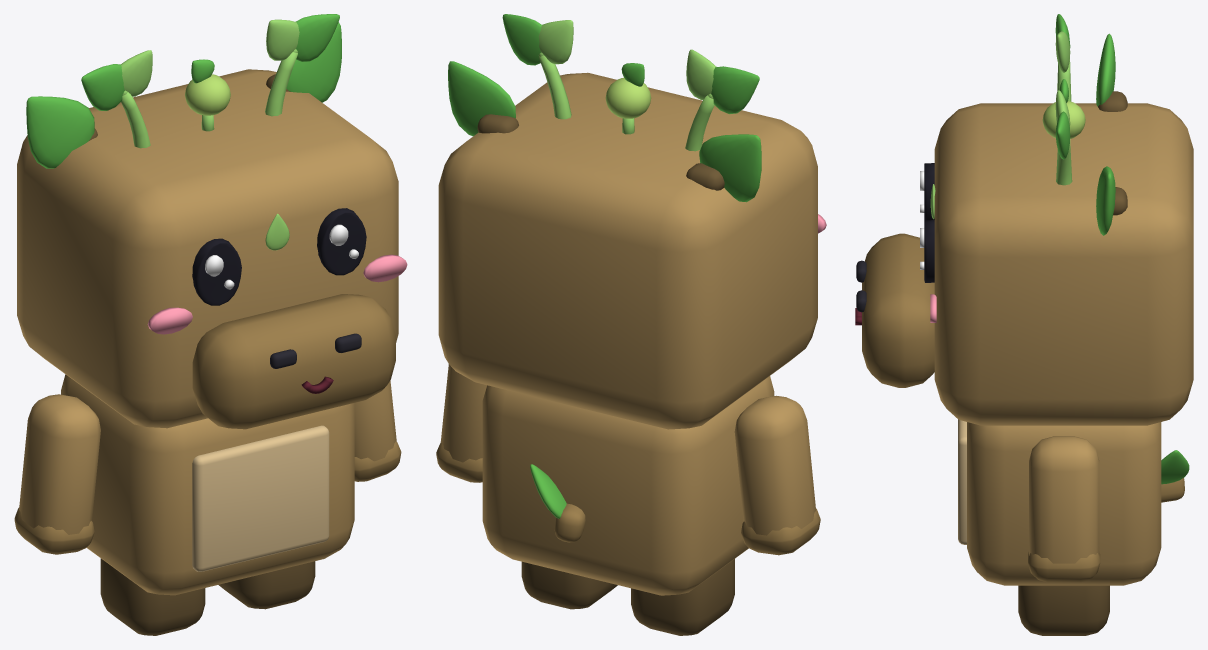
The model's file is capybara_stage_2.glb.
The picture shows the model from 3 angles, left to right: view 1: azimuth 30°, elevation 25°; view 2: azimuth 150°, elevation 25°; view 3: azimuth 270°, elevation 25°; orthographic projection. The views are drawn at different scales.
Visible parts, largest first — view 1: Capybara_Stage2_Head, Capybara_Stage2_Body, Capybara_Stage2_Arm_R, Capybara_Stage2_Arm_L; view 2: Capybara_Stage2_Head, Capybara_Stage2_Body, Capybara_Stage2_Arm_R, Capybara_Stage2_Arm_L, Capybara_Stage2_Tail; view 3: Capybara_Stage2_Head, Capybara_Stage2_Body, Capybara_Stage2_Arm_L, Capybara_Stage2_Tail.
Boxes of the visible parts, box(x1,y1,x2,y2) form: Capybara_Stage2_Head: box(17, 14, 407, 429); Capybara_Stage2_Body: box(61, 374, 354, 635); Capybara_Stage2_Arm_R: box(14, 394, 100, 554); Capybara_Stage2_Arm_L: box(354, 380, 401, 481); Capybara_Stage2_Head: box(438, 14, 826, 429); Capybara_Stage2_Body: box(482, 376, 774, 635); Capybara_Stage2_Arm_R: box(734, 395, 820, 555); Capybara_Stage2_Arm_L: box(436, 364, 486, 482); Capybara_Stage2_Tail: box(530, 464, 585, 542); Capybara_Stage2_Head: box(855, 14, 1193, 425); Capybara_Stage2_Body: box(958, 419, 1161, 635); Capybara_Stage2_Arm_L: box(1028, 436, 1100, 582); Capybara_Stage2_Tail: box(1161, 450, 1189, 502).
Size of the model in its own units: 0.7432 by 1.12 by 0.6395.
